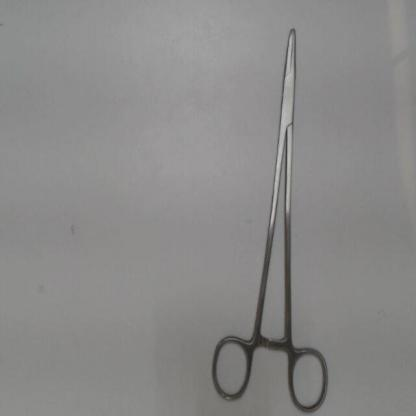8 Mayo Needle Holder: (201, 16, 333, 415)
